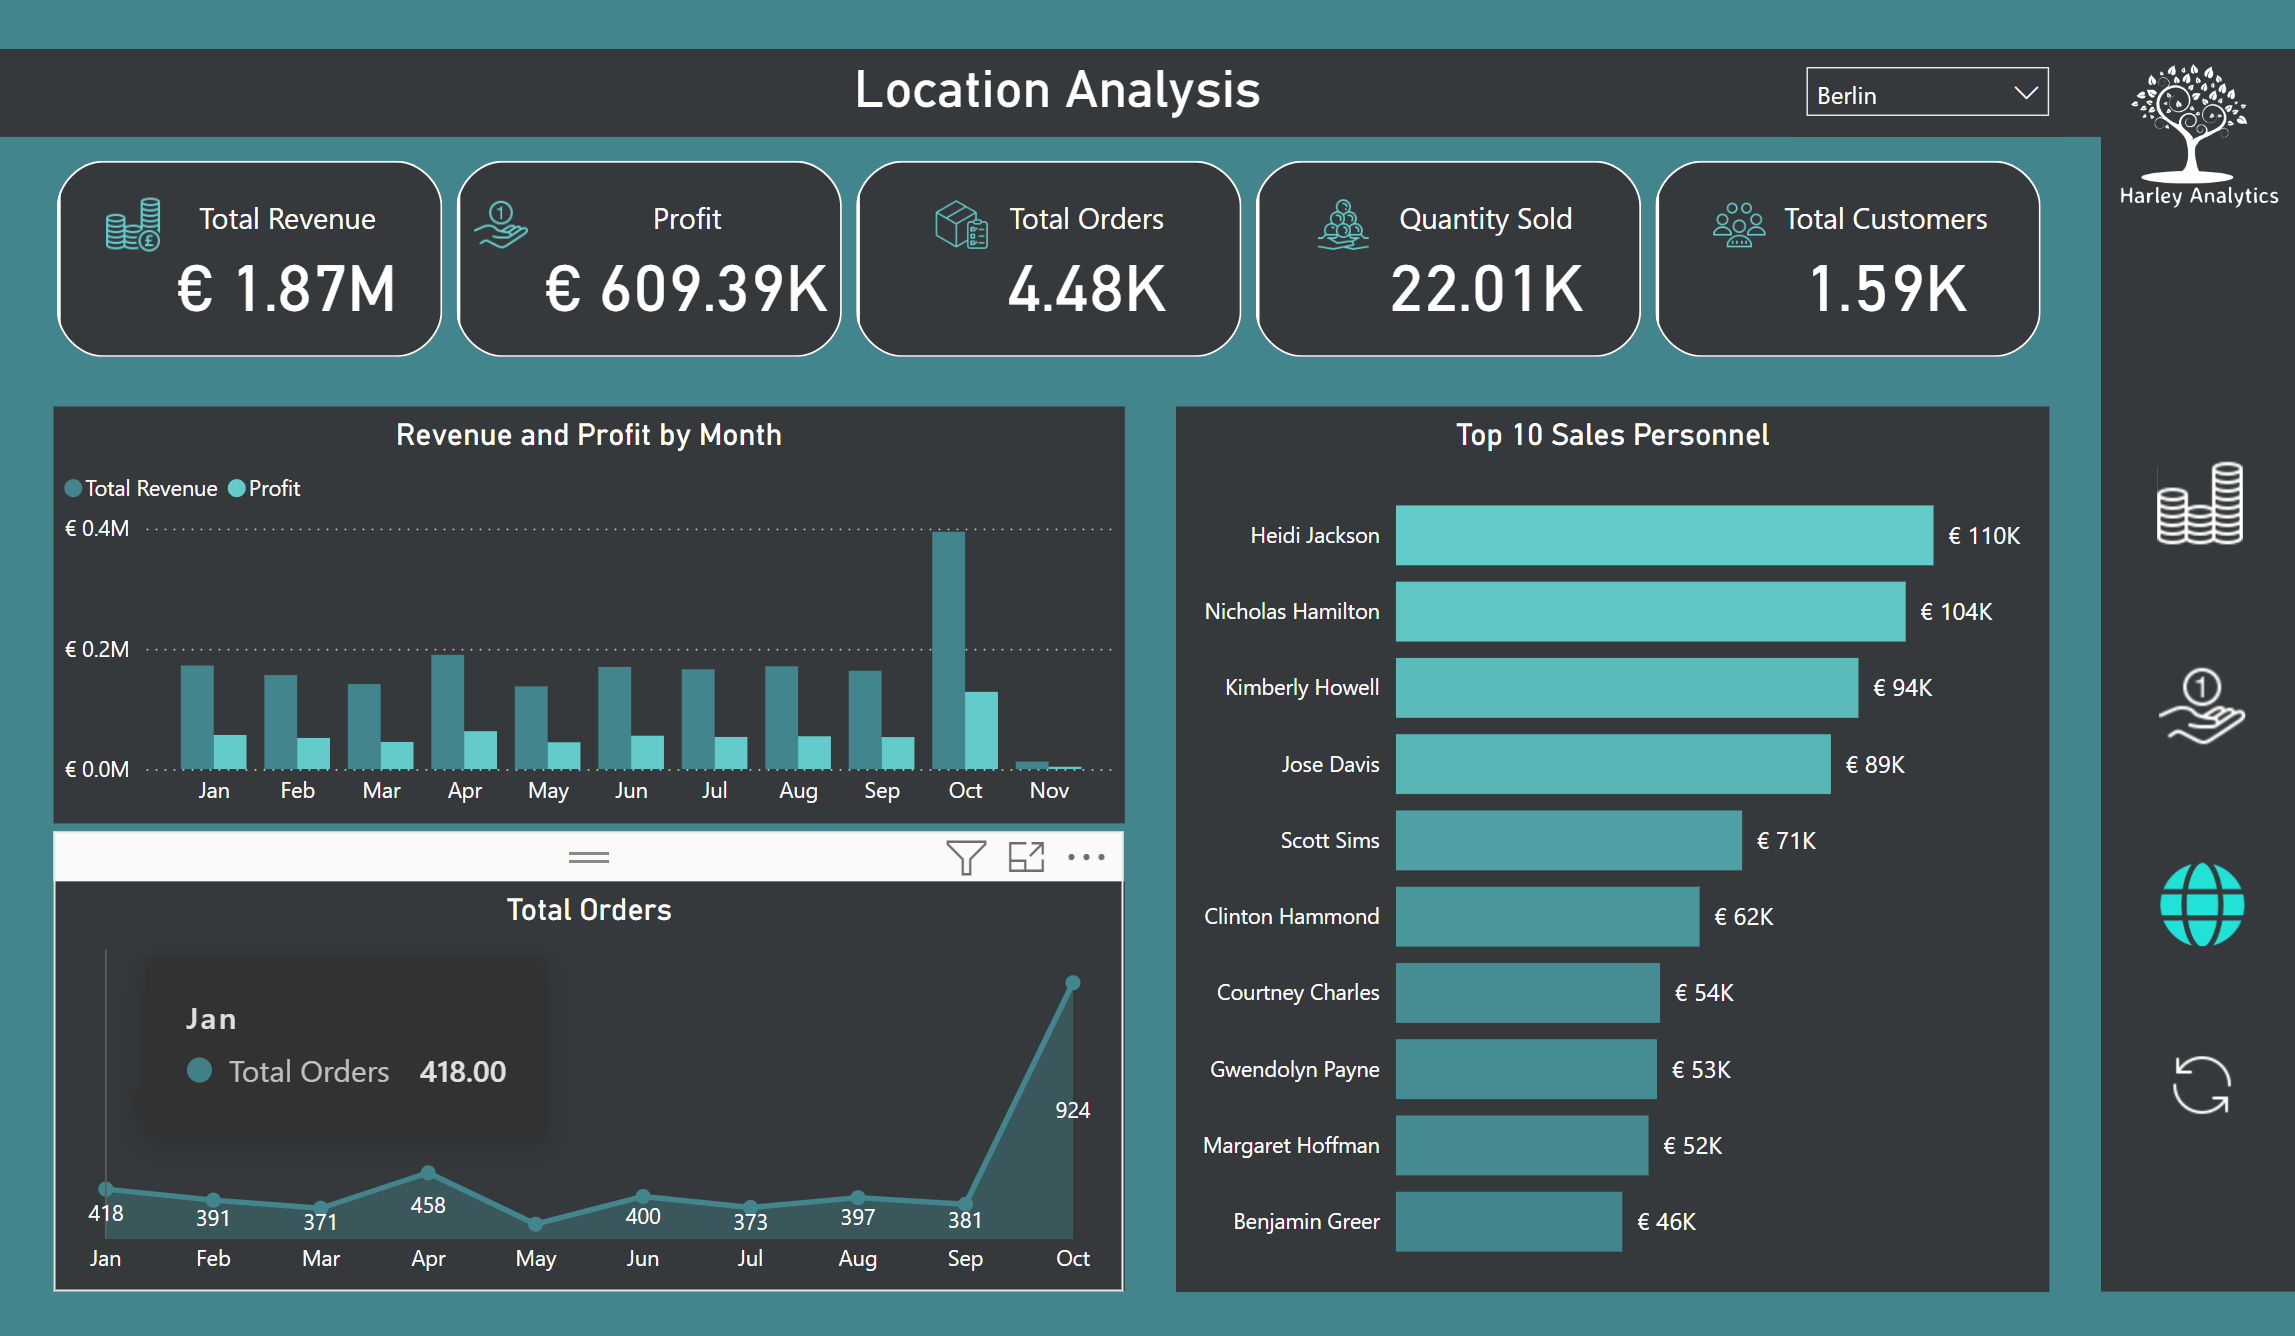

Layout of this report page (visuals, bound fields, positions):
{"tool":"powerbi","page":{"name":"Location Analysis","canvas":[1280,720],"ordinal":2},"visuals":[{"type":"cardVisual","fields":{"Data":["DAX Measures.TotalRevenue","DAX Measures.Profit","DAX Measures.TotalOrders","DAX Measures.Quantity Sold","DAX Measures.Total Customers"]},"box":[31.7,56.9,1109.4,119],"z":0},{"type":"textbox","box":[0,0,1179.6,48.7],"z":1000},{"type":"shape","box":[1169.6,0,109.8,690.3],"z":2000},{"type":"image","box":[1169.6,0,109.8,96.1],"z":3000},{"type":"actionButton","box":[1169.6,216,109.8,73.6],"z":4000},{"type":"actionButton","box":[1170.2,327.5,109.8,74],"z":5000},{"type":"actionButton","box":[1170.2,439.5,109.8,72.7],"z":6000},{"type":"actionButton","box":[1170.2,550.1,109.8,51.6],"z":7000},{"type":"barChart","title":"Top 10 Sales Personnel","fields":{"Y":["DAX Measures.TotalRevenue"],"Category":["personnel.PersonnelName"]},"box":[655.9,198.3,485.3,491.9],"z":8000},{"type":"slicer","fields":{"Values":["stores.Location"]},"box":[995.7,0,154.7,48.9],"z":9000},{"type":"stackedAreaChart","title":"Total Orders","fields":{"Category":["DateTable.Date Hierarchy.MonthName"],"Y":["DAX Measures.Total Orders"]},"box":[31.7,462.8,595,227.4],"z":10000},{"type":"lineClusteredColumnComboChart","title":"Revenue and Profit by Month","fields":{"Y":["DAX Measures.TotalRevenue","DAX Measures.Profit"],"Category":["DateTable.MonthName"]},"box":[31.7,198.3,595,231.4],"z":11000}]}

Visuals, with their boxes on the page's 1280x720 design canvas (x1, y1, x2, y2). These are canvas units, not pixel positions in the 2295x1336 screenshot, which may show the page scaled, cropped or inside an application window:
cardVisual - DAX Measures.TotalRevenue x DAX Measures.Profit: crop(32, 57, 1141, 176)
textbox: crop(0, 0, 1180, 49)
shape: crop(1170, 0, 1279, 690)
image: crop(1170, 0, 1279, 96)
actionButton: crop(1170, 216, 1279, 290)
actionButton: crop(1170, 328, 1280, 402)
actionButton: crop(1170, 440, 1280, 512)
actionButton: crop(1170, 550, 1280, 602)
"Top 10 Sales Personnel" barChart: crop(656, 198, 1141, 690)
slicer - stores.Location: crop(996, 0, 1150, 49)
"Total Orders" stackedAreaChart: crop(32, 463, 627, 690)
"Revenue and Profit by Month" lineClusteredColumnComboChart: crop(32, 198, 627, 430)
